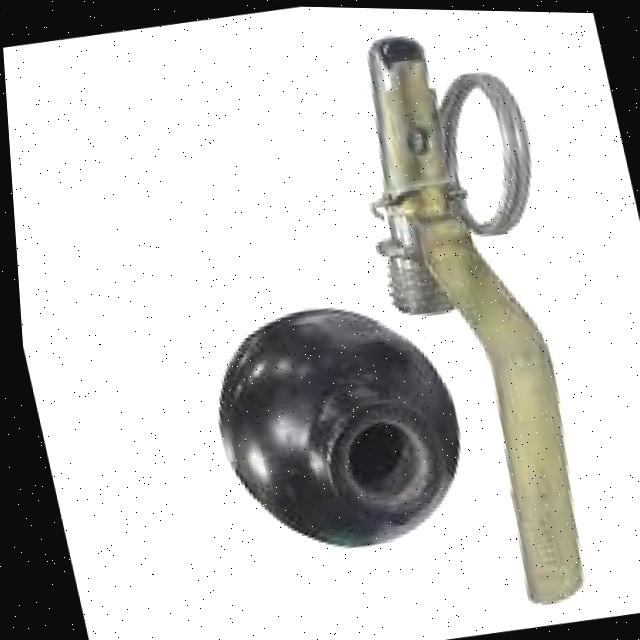grenade: (187, 286, 481, 570)
